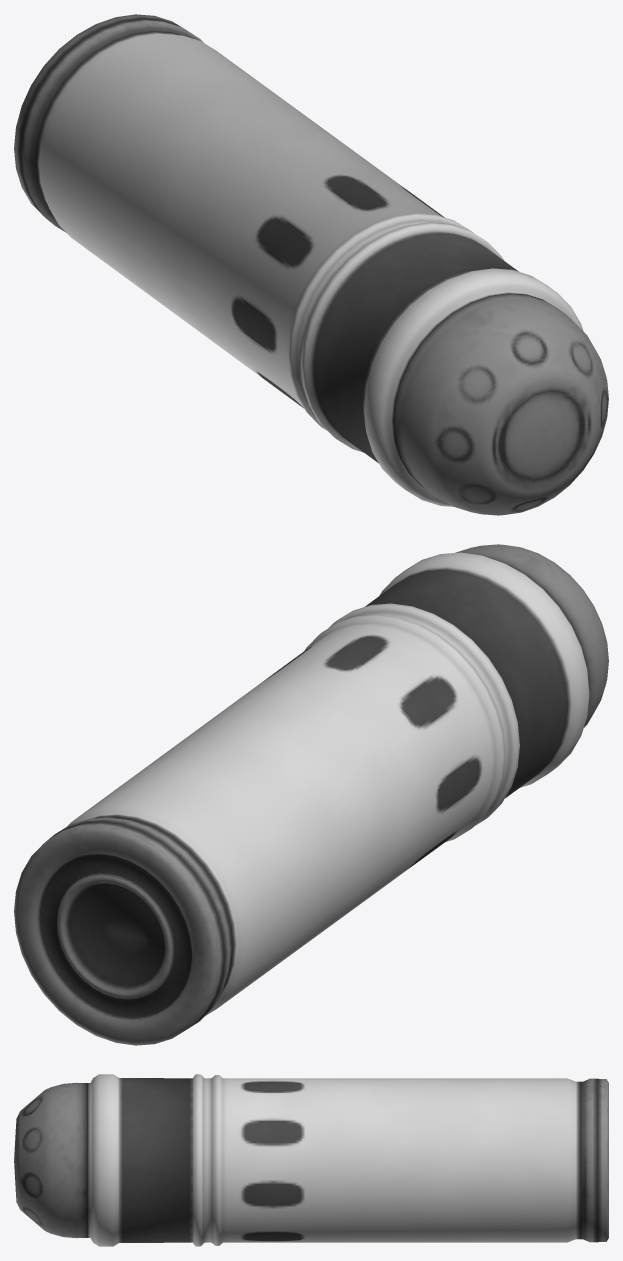
File: SciFiGrenadeLauncher01_3.FBX
3 renders of one model, top to bottom at view 1: azimuth 30°, elevation 25°; view 2: azimuth 150°, elevation 25°; view 3: azimuth 270°, elevation 25°, orthographic. The views are drawn at different scales.
Parts seen in each view (by area): view 1: SciFiGrenadeLauncher01_3; view 2: SciFiGrenadeLauncher01_3; view 3: SciFiGrenadeLauncher01_3.
Part boxes in pixels (bbox=[...]): SciFiGrenadeLauncher01_3: bbox=[14, 14, 608, 515]; SciFiGrenadeLauncher01_3: bbox=[14, 544, 608, 1045]; SciFiGrenadeLauncher01_3: bbox=[14, 1074, 608, 1246].
Size of what is drawn, in the model's own units: 0.0522 by 0.0523 by 0.1803.
